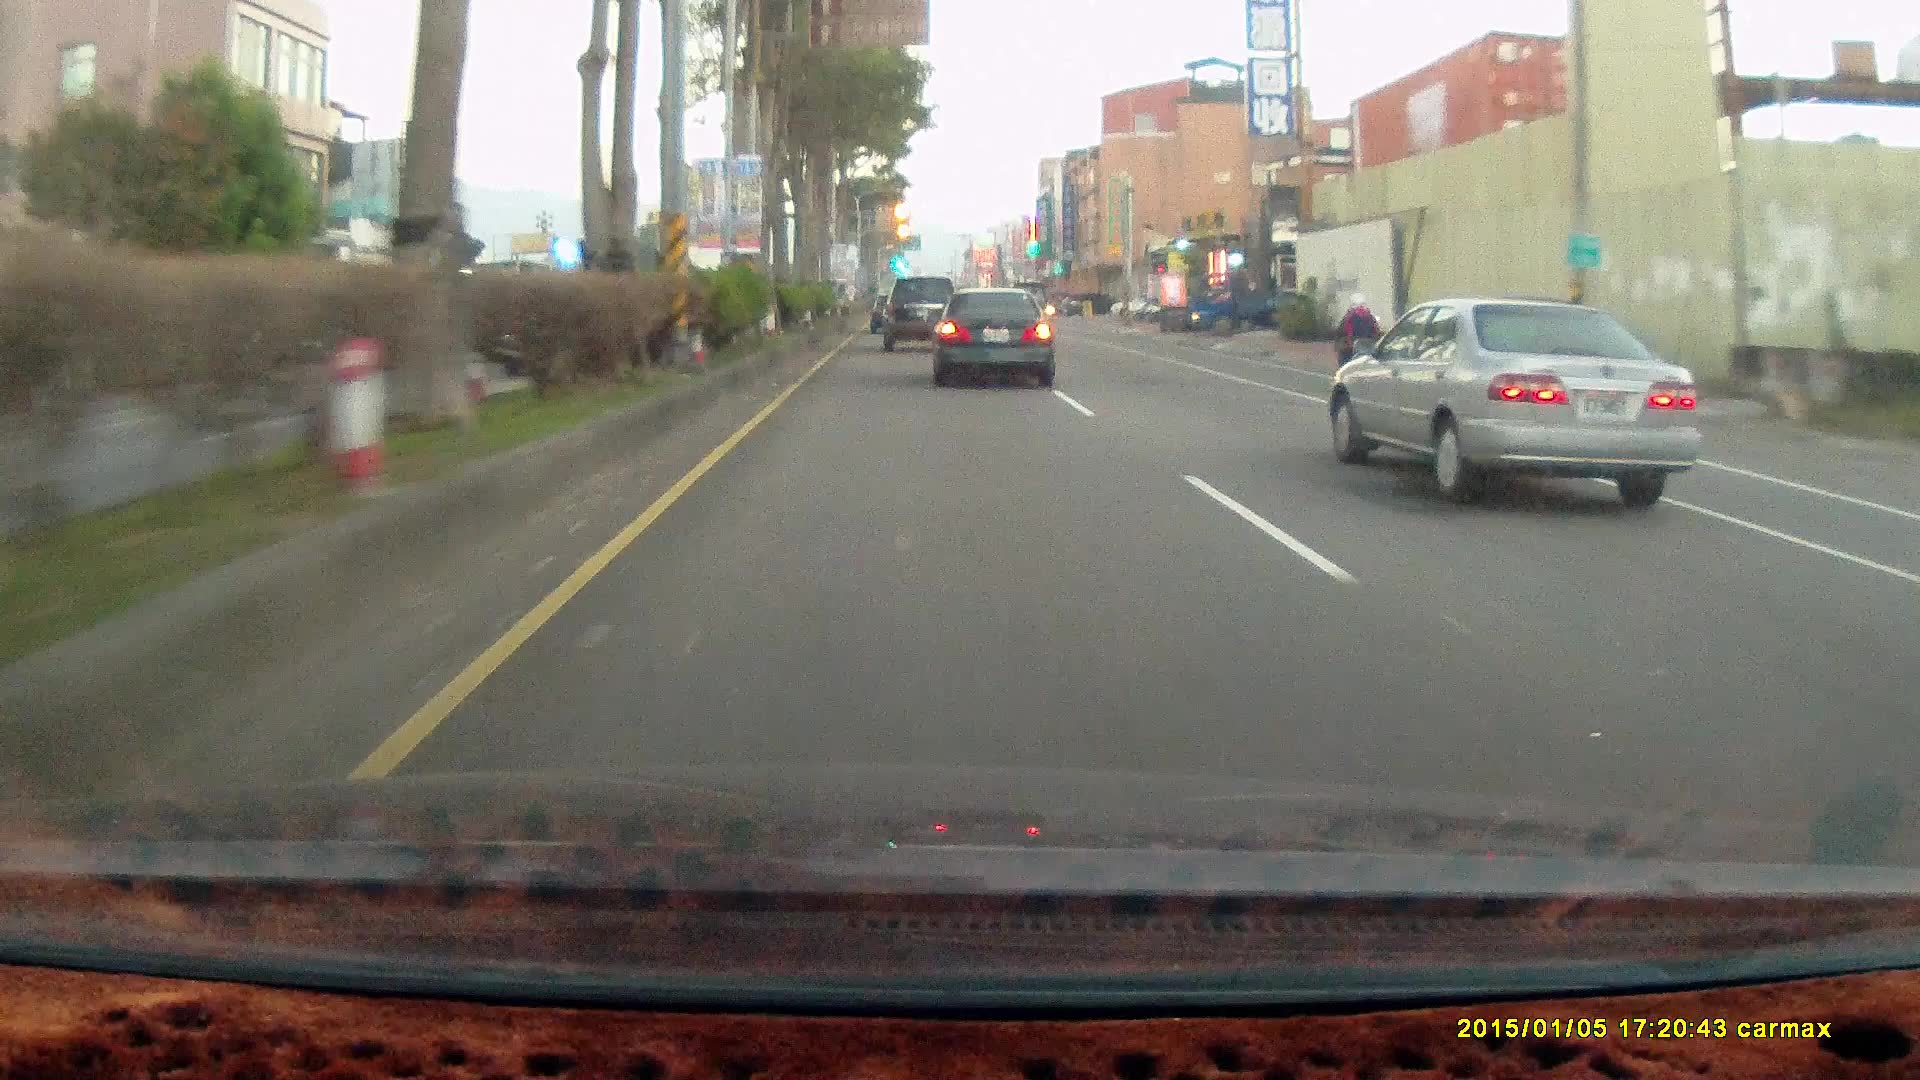rider: (1325, 286, 1390, 393), (1331, 288, 1387, 395)
vehicle: (1328, 298, 1701, 509), (1327, 304, 1700, 505), (927, 289, 1055, 390), (937, 298, 1064, 394), (1185, 268, 1304, 339), (1185, 270, 1304, 338), (886, 279, 964, 356), (881, 276, 959, 349), (1107, 292, 1158, 316), (1066, 292, 1116, 315)
